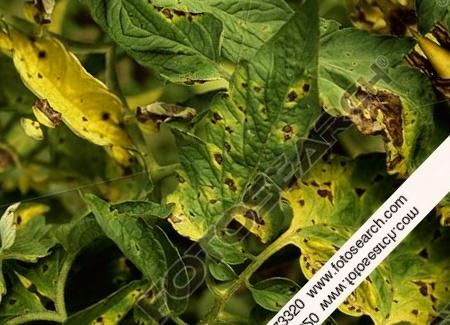Tomato Early blight leaf: (120, 0, 381, 260), (307, 18, 450, 181), (250, 119, 402, 272), (25, 73, 137, 186), (103, 306, 217, 325)
